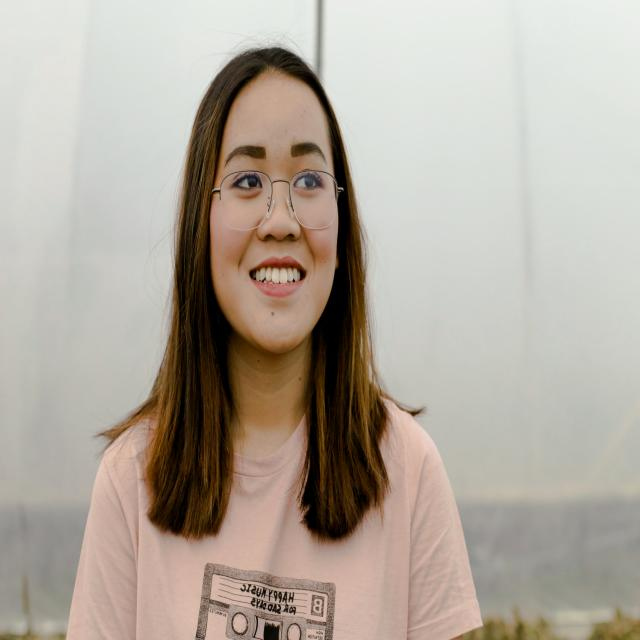adult: (68, 47, 473, 640)
